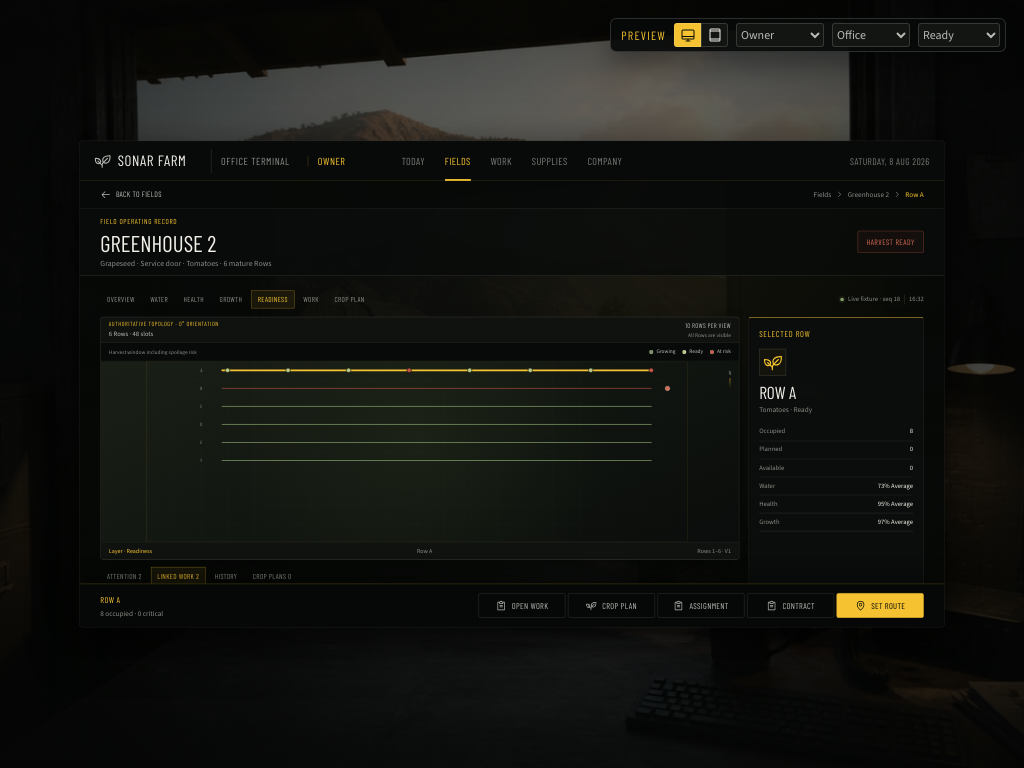
Test: Farm Business Hub › restores Field layer and Row after a linked Work detour
Click the button "Open Work" at (522, 606), box x1=478 y1=593 x2=565 y2=618
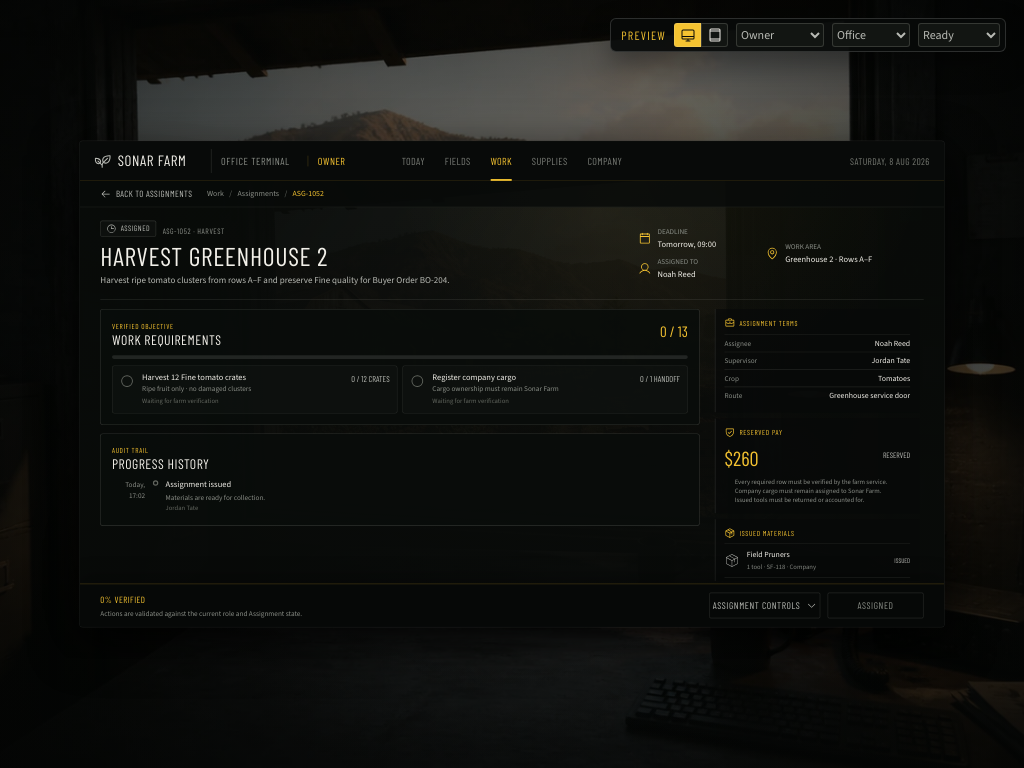
Expected: the heading "Harvest Greenhouse 2" is shown, x1=100 y1=240 x2=328 y2=272
Click the button "Back to Assignments" at (146, 194), box x1=100 y1=185 x2=192 y2=203
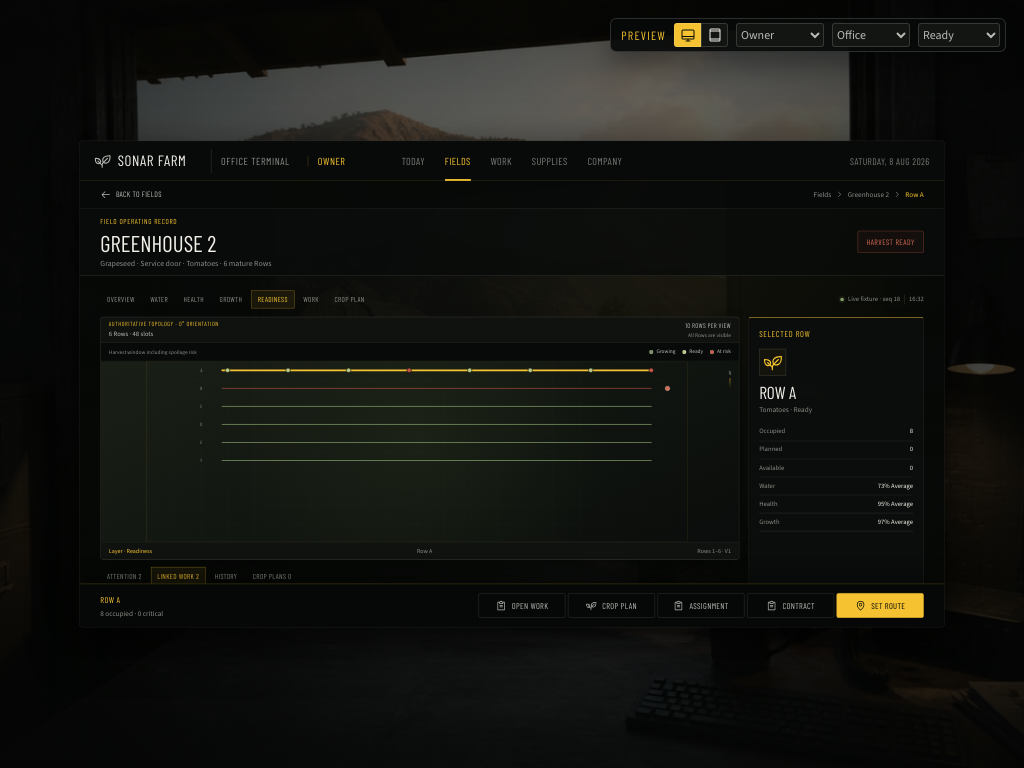
Expected: the heading "Greenhouse 2" is shown, x1=100 y1=229 x2=216 y2=257
Expected: the heading "Row A" is shown, x1=759 y1=382 x2=796 y2=403
